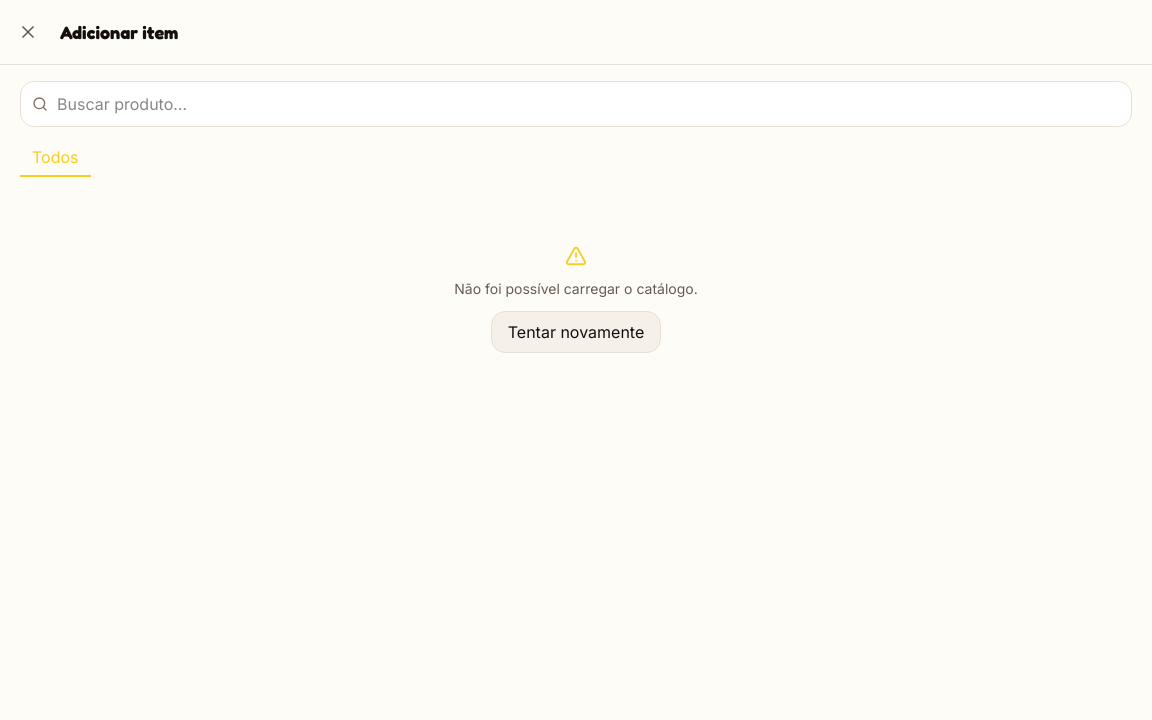
Test case: AddItemScreen — estados do catálogo › 'Tentar novamente' dispara uma nova carga
The width and height of the screenshot is (1152, 720).
Step 1. Click the button "Tentar novamente" → click(576, 332), box [491,311,661,353]
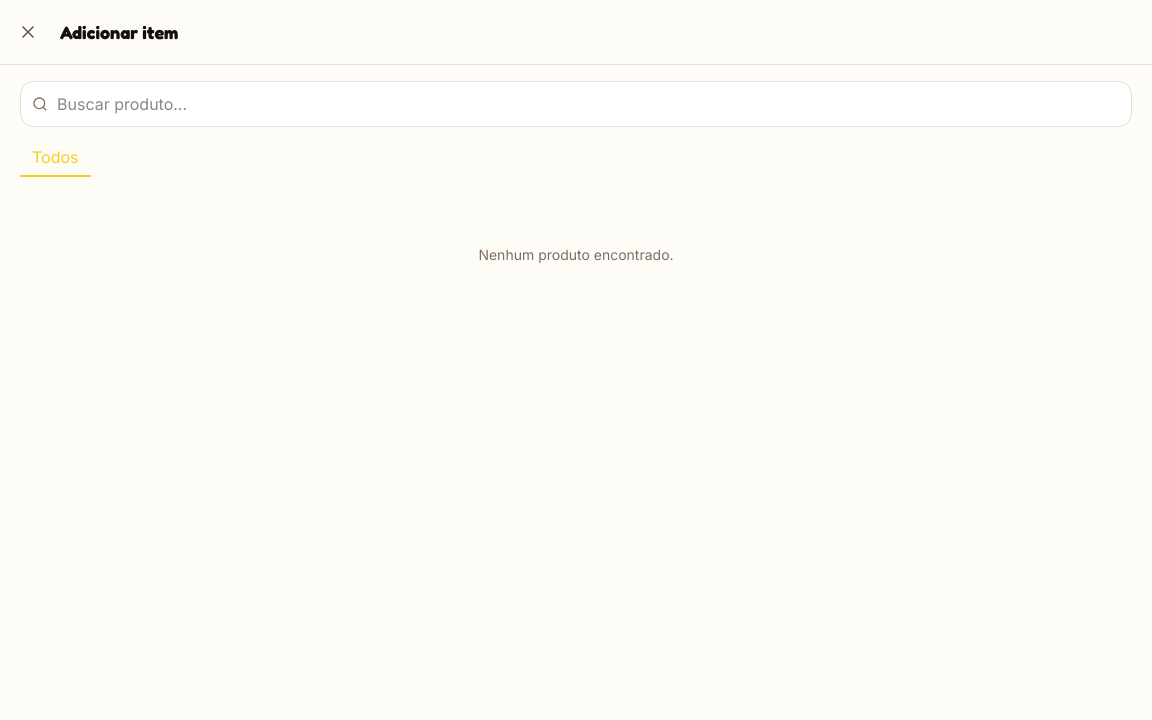
Expected: the button "Tentar novamente" is gone
